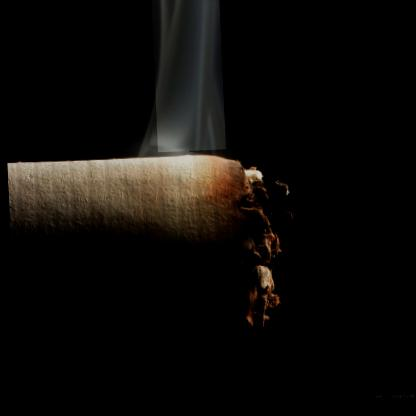smoke: (151, 0, 225, 154)
